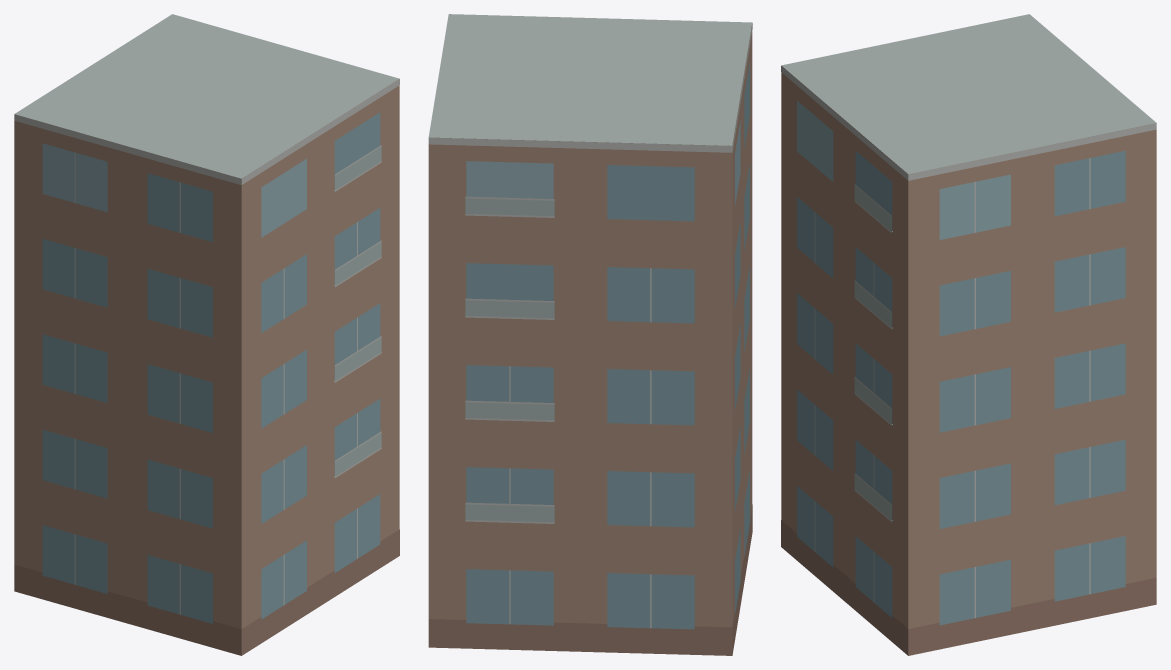
The model's file is survey-upis-32540498.glb.
3 renders of one model, left to right at view 1: azimuth 30°, elevation 25°; view 2: azimuth 150°, elevation 25°; view 3: azimuth 270°, elevation 25°, orthographic. The views are drawn at different scales.
Visible parts, largest first — view 1: survey-upis-32540498.tmp; view 2: survey-upis-32540498.tmp; view 3: survey-upis-32540498.tmp.
Part boxes in pixels (left/top/right/bottom): survey-upis-32540498.tmp: left=14, top=14, right=399, bottom=655; survey-upis-32540498.tmp: left=428, top=14, right=752, bottom=655; survey-upis-32540498.tmp: left=781, top=14, right=1156, bottom=655.
Size of the model in its own units: 12.78 by 17.9 by 12.66.
